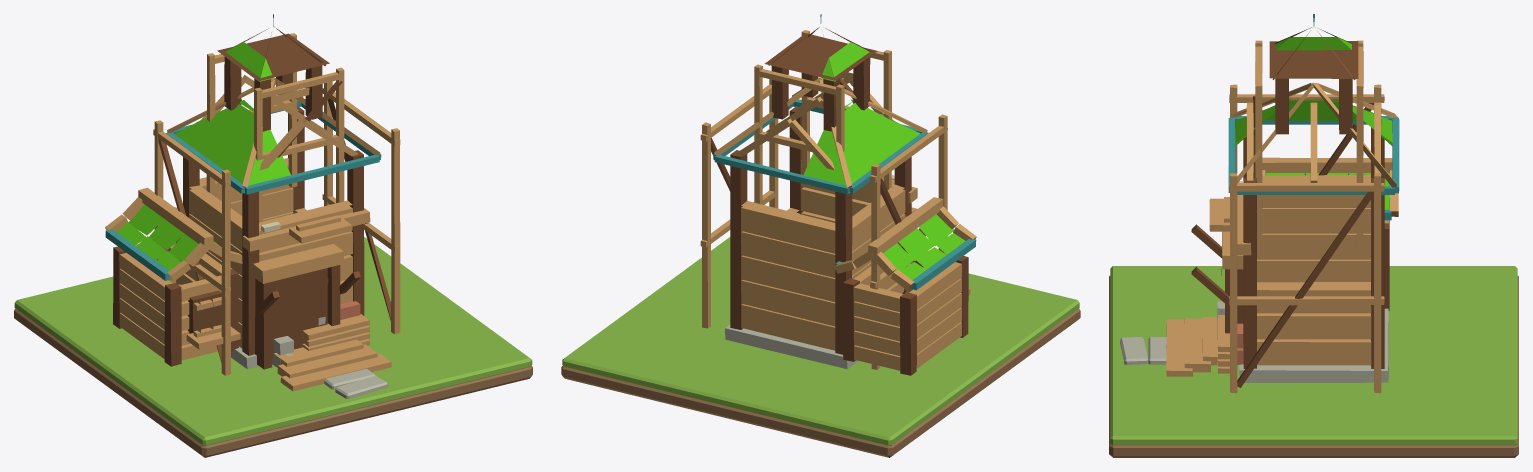
Rendered from town_hall_l04_construction_LOD2.glb.
3 views of the same model, side by side, from view 1: azimuth 30°, elevation 25°; view 2: azimuth 150°, elevation 25°; view 3: azimuth 270°, elevation 25° (orthographic). The views are drawn at different scales.
Parts seen in each view (by area): view 1: town_hall_l04_construction_foundation.001, town_hall_l04_construction_grass_tile.001, town_hall_l04_construction_earth_tile.001, town_hall_l04_construction_path_stone.005, town_hall_l04_construction_path_stone.004; view 2: town_hall_l04_construction_foundation.001, town_hall_l04_construction_grass_tile.001, town_hall_l04_construction_earth_tile.001; view 3: town_hall_l04_construction_foundation.001, town_hall_l04_construction_grass_tile.001, town_hall_l04_construction_earth_tile.001, town_hall_l04_construction_path_stone.005, town_hall_l04_construction_path_stone.004.
Part boxes in pixels (x1,y1,x2,y2): town_hall_l04_construction_foundation.001: [105, 14, 400, 391]; town_hall_l04_construction_grass_tile.001: [14, 237, 532, 445]; town_hall_l04_construction_earth_tile.001: [14, 308, 532, 457]; town_hall_l04_construction_path_stone.005: [335, 375, 387, 398]; town_hall_l04_construction_path_stone.004: [324, 368, 375, 389]; town_hall_l04_construction_foundation.001: [700, 14, 976, 375]; town_hall_l04_construction_grass_tile.001: [562, 237, 1079, 445]; town_hall_l04_construction_earth_tile.001: [561, 308, 1080, 457]; town_hall_l04_construction_foundation.001: [1166, 14, 1399, 393]; town_hall_l04_construction_grass_tile.001: [1110, 266, 1517, 445]; town_hall_l04_construction_earth_tile.001: [1109, 276, 1518, 457]; town_hall_l04_construction_path_stone.005: [1120, 337, 1148, 364]; town_hall_l04_construction_path_stone.004: [1148, 337, 1166, 364].
Size of the model in its own units: 3.6 by 3.48 by 3.6.
